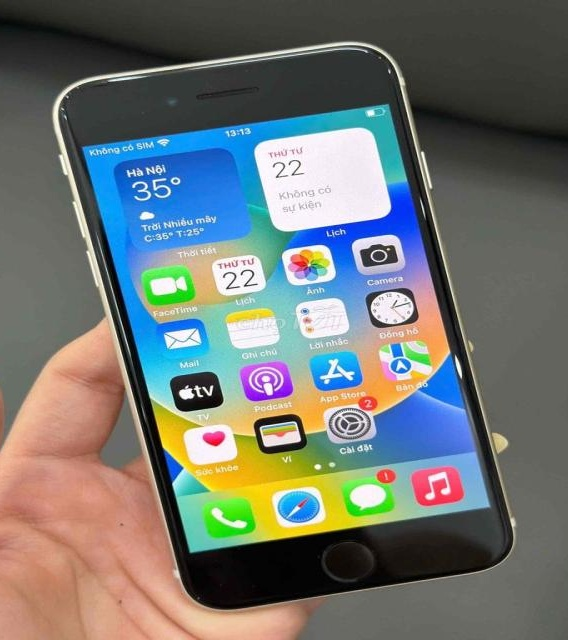scratch: (176, 57, 286, 69), (51, 84, 87, 116), (104, 72, 152, 84), (452, 356, 471, 386), (376, 49, 398, 71)
